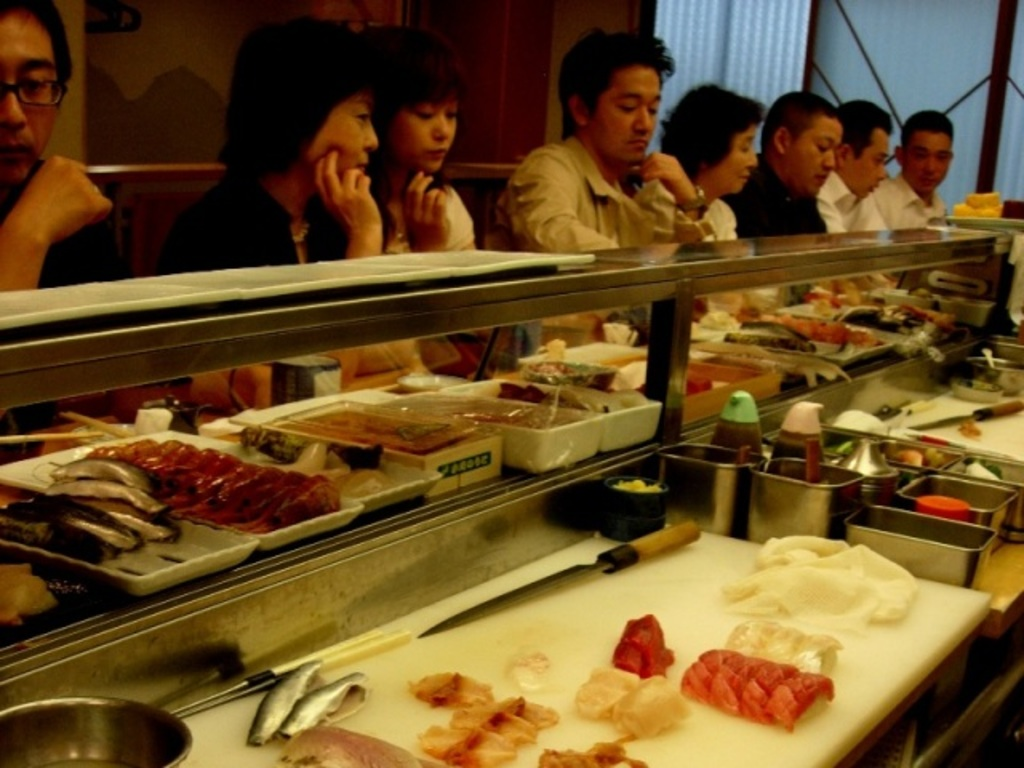Human-face: (0, 8, 56, 181), (594, 66, 661, 160), (302, 94, 370, 174), (384, 99, 454, 170), (787, 120, 842, 195), (904, 130, 952, 190), (709, 130, 754, 190), (848, 130, 885, 198)
